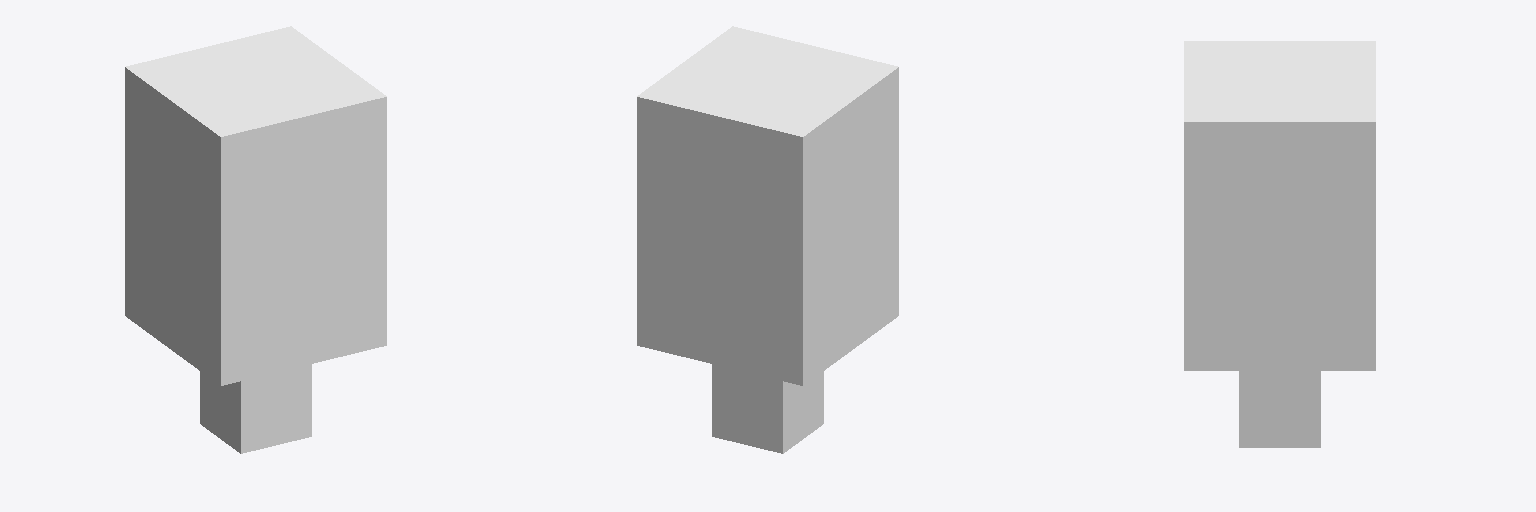
File: tree_M.obj
3 renders of one model, left to right at view 1: azimuth 30°, elevation 25°; view 2: azimuth 150°, elevation 25°; view 3: azimuth 270°, elevation 25°, orthographic.
Parts seen in each view (by area): view 1: object 1; view 2: object 1; view 3: object 1.
Part boxes in pixels (left/top/right/bottom): object 1: left=125, top=26, right=386, bottom=453; object 1: left=637, top=26, right=898, bottom=453; object 1: left=1184, top=41, right=1375, bottom=447.
Bounding box in the file's own units: 0.7 × 1.4 × 0.7.